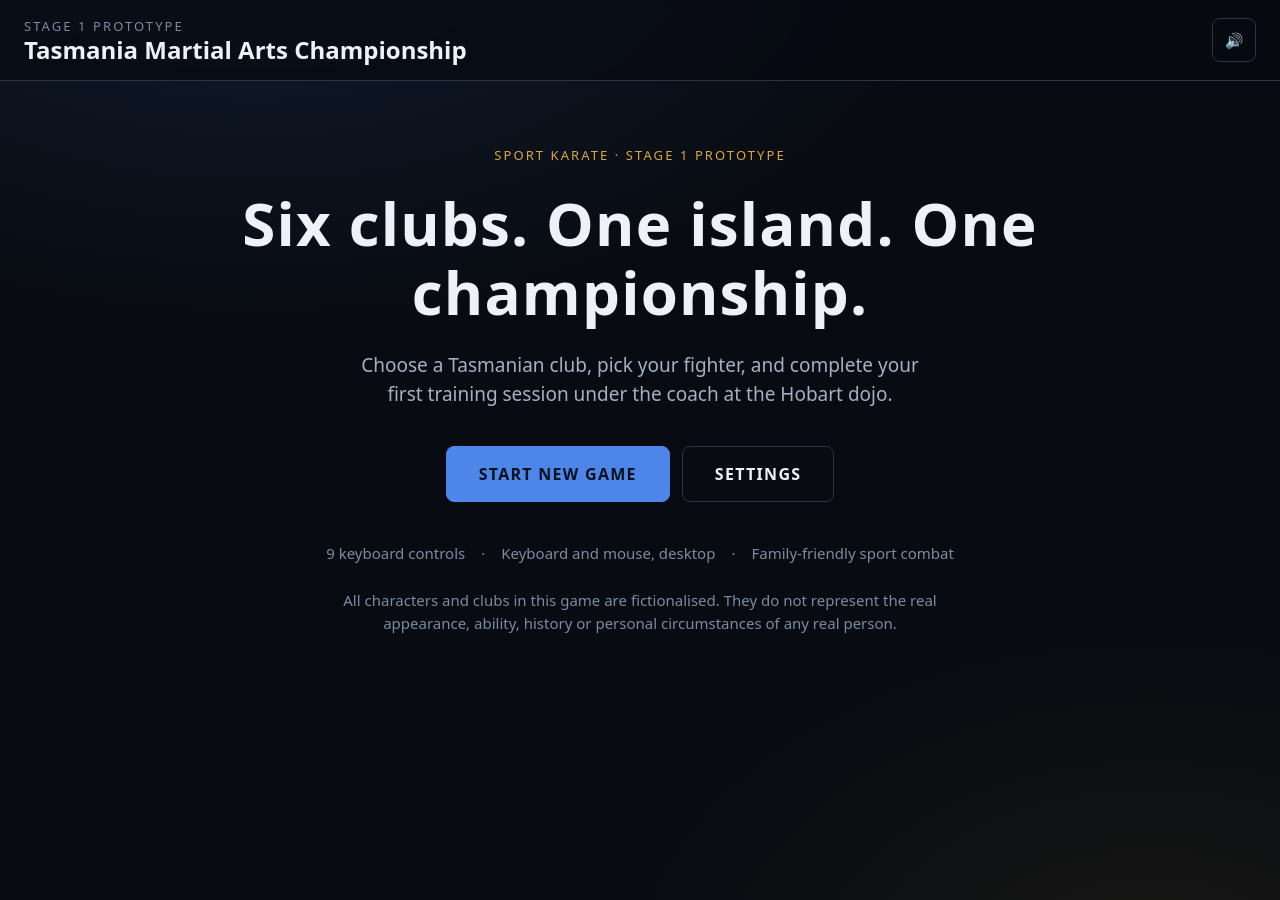
Test: team profile › explains, rather than hides, an unauthored roster
Click the button with test id "start-game": (558, 474) [446,446,670,502]
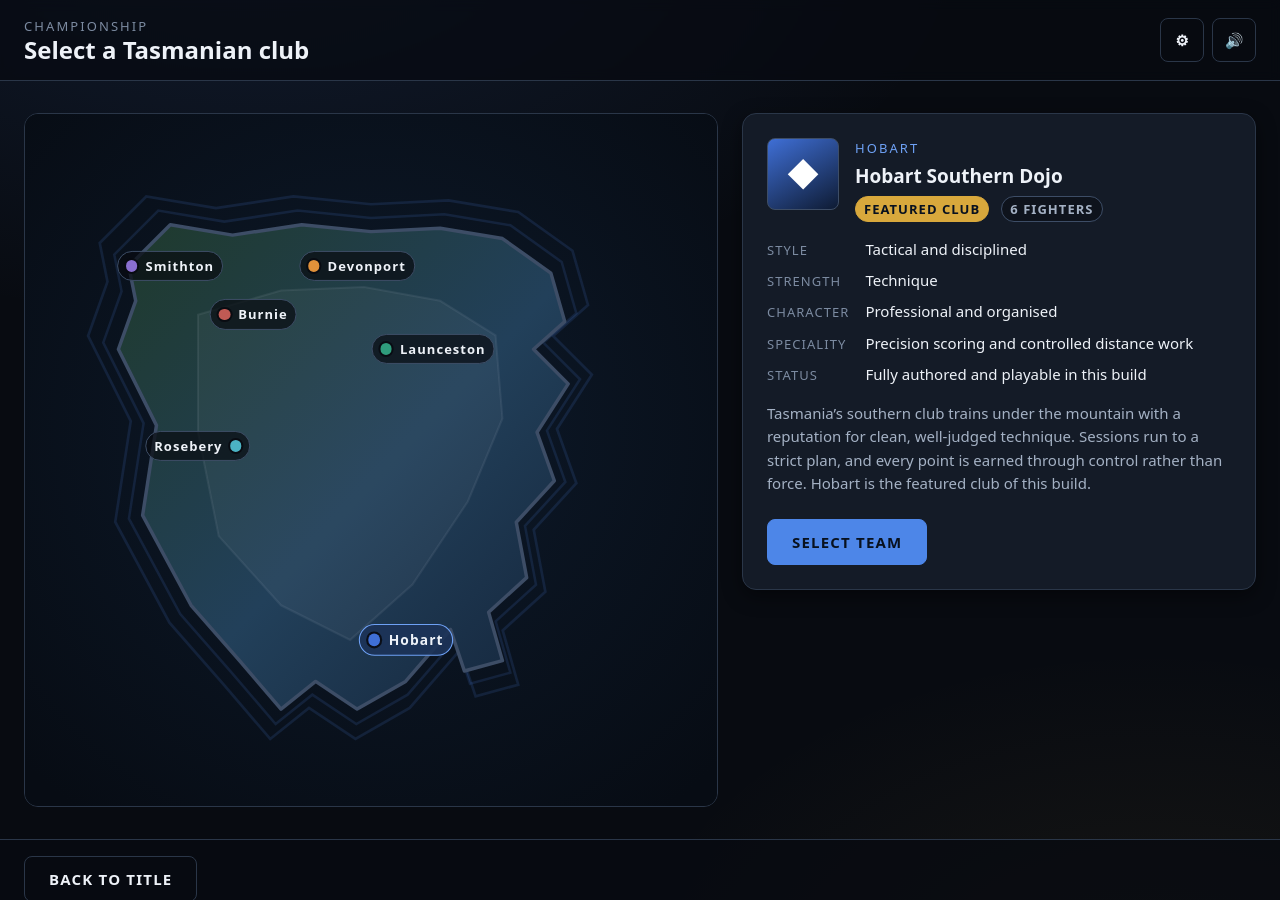
Click the button with test id "map-marker-rosebery": (198, 446) [145,431,251,461]
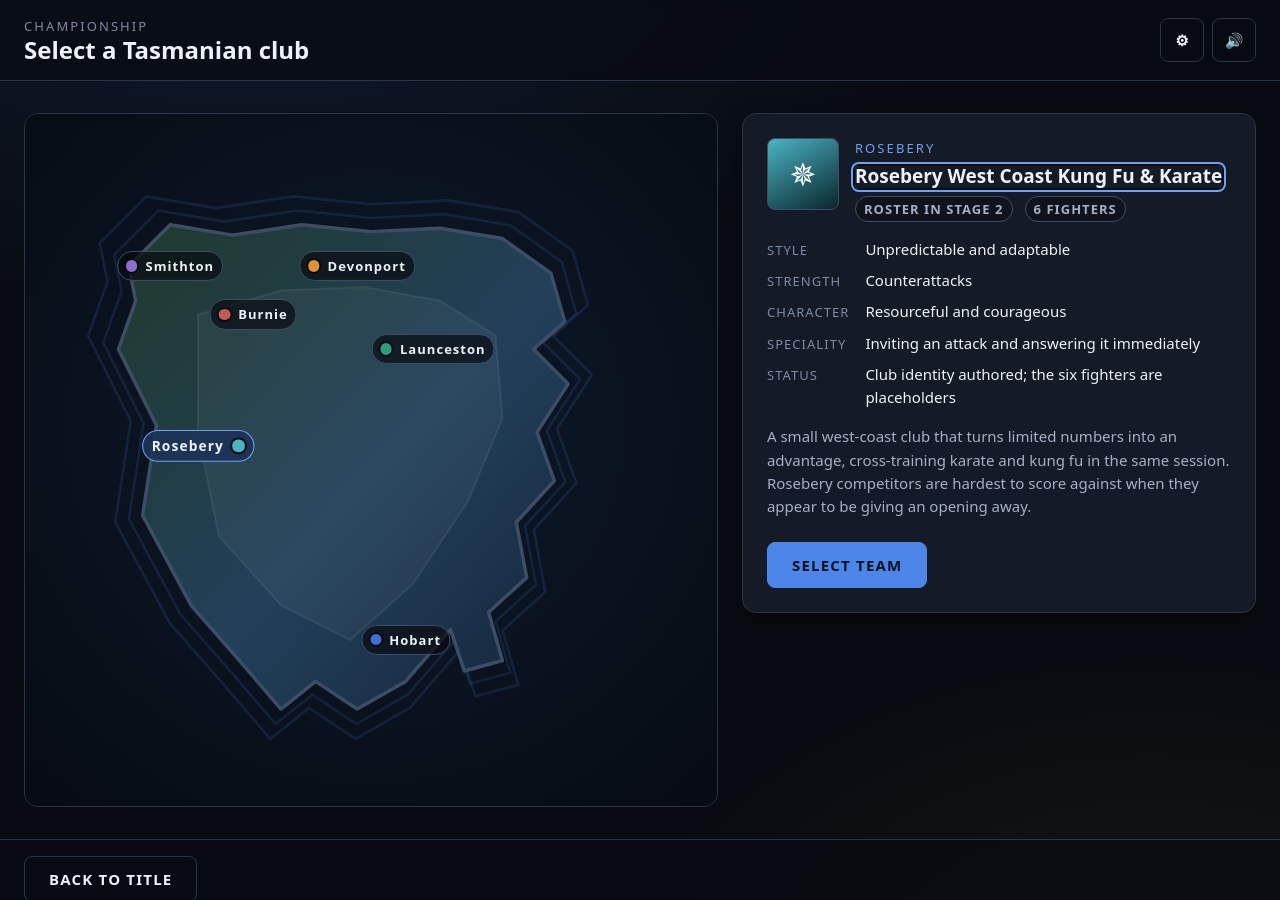
Click the button with test id "select-team": (847, 565) [767,542,928,588]
(page scrolled)
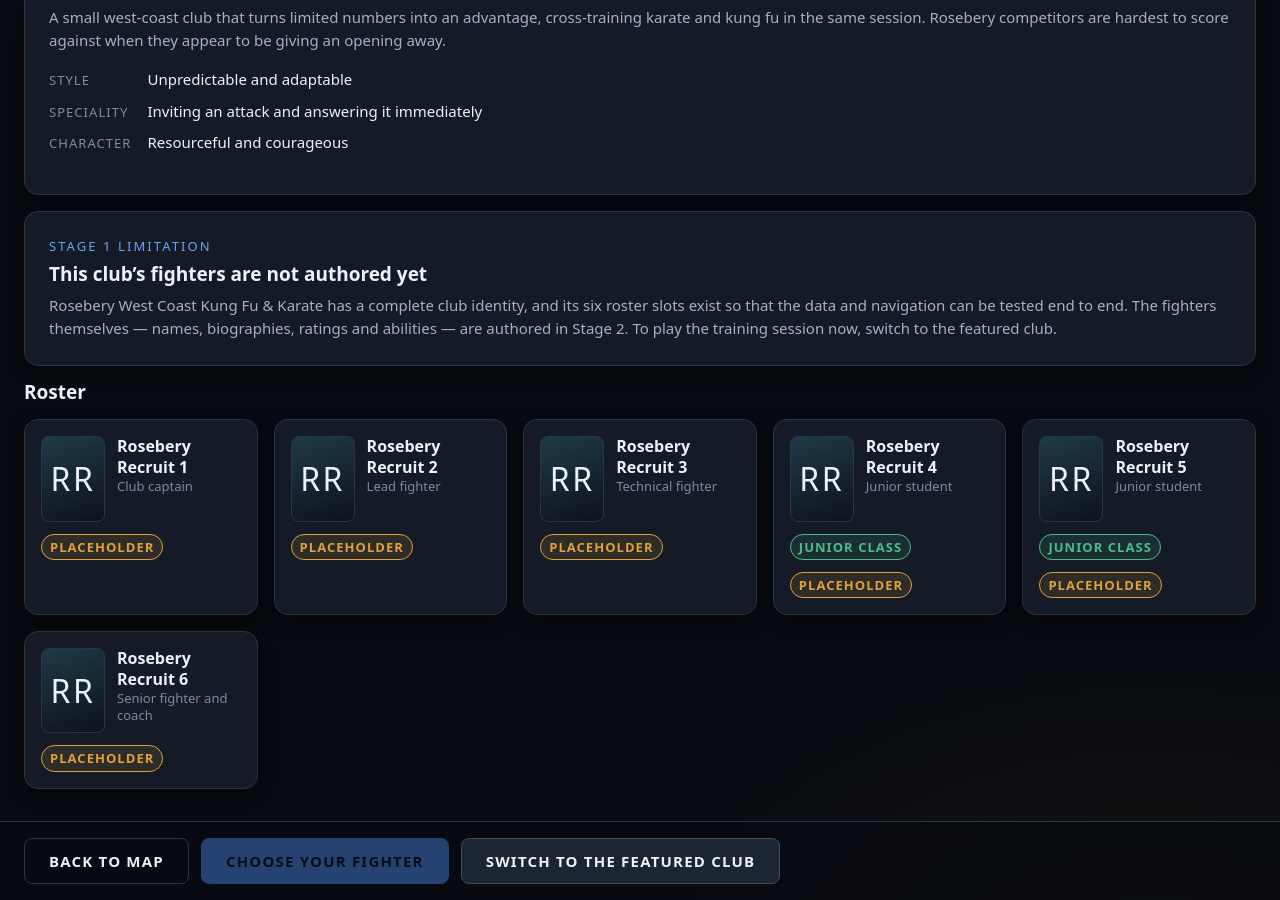
expect the element with test id "placeholder-roster-notice" is shown: met, box [24,211,1256,366]
expect the button with test id "view-roster" is disabled: met, box [201,838,449,884]
expect the button with test id "switch-to-featured" is shown: met, box [461,838,780,884]
